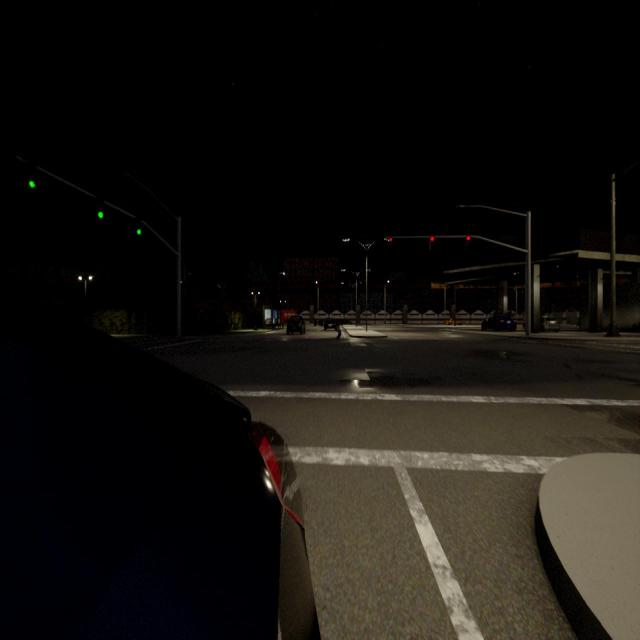Vehicle: (0, 327, 314, 638), (481, 312, 516, 331), (287, 316, 305, 334), (544, 315, 557, 331), (324, 318, 337, 331), (444, 319, 463, 325), (314, 318, 322, 327)
traffic_light: (29, 166, 35, 188), (97, 199, 103, 218), (137, 220, 141, 234), (466, 235, 471, 240), (430, 236, 434, 242), (389, 237, 392, 241)
